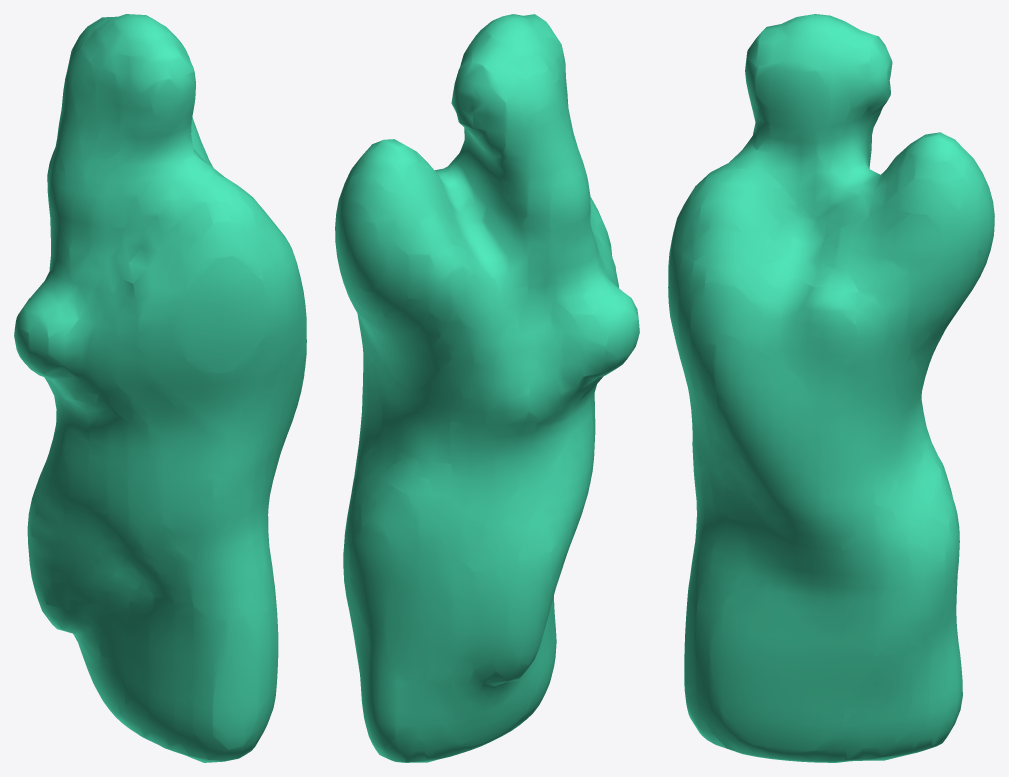
3 views of the same model, side by side, from view 1: azimuth 30°, elevation 25°; view 2: azimuth 150°, elevation 25°; view 3: azimuth 270°, elevation 25° (orthographic).
Visible parts, largest first — view 1: Liquid_Domain; view 2: Liquid_Domain; view 3: Liquid_Domain.
Boxes of the visible parts, x1,y1,x2,y2 form: Liquid_Domain: [14, 14, 306, 762]; Liquid_Domain: [335, 14, 639, 762]; Liquid_Domain: [668, 14, 994, 762].
Bounding box in the file's own units: 2.65 × 6.98 × 2.92.
